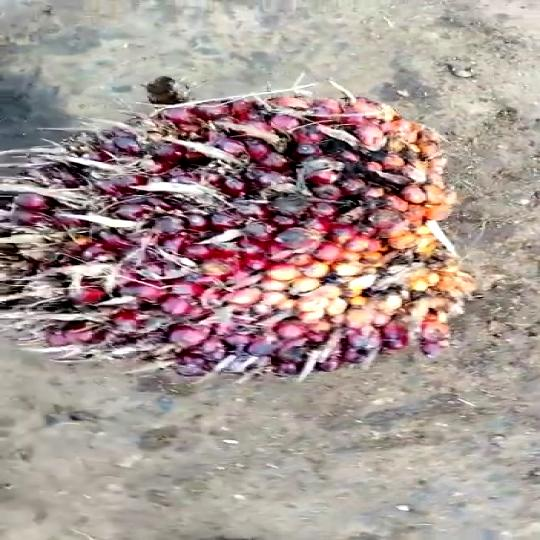masak: (0, 80, 476, 382)
